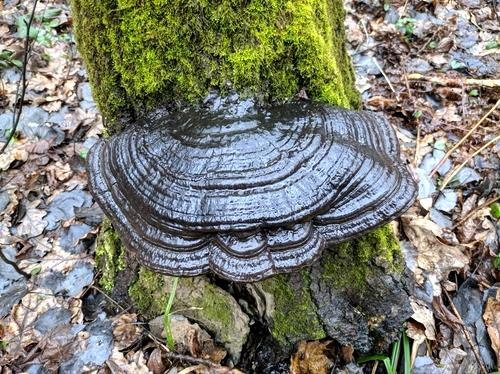Ganoderma - Fruit Body: (89, 100, 417, 284)
